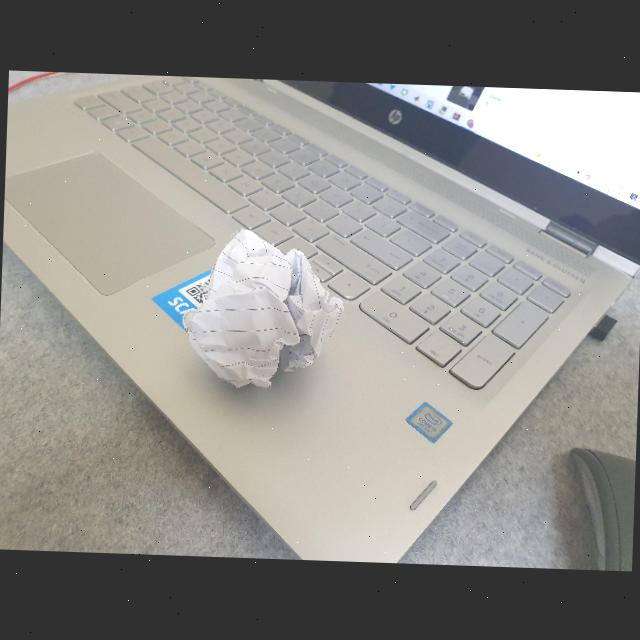trash: (173, 218, 350, 402)
